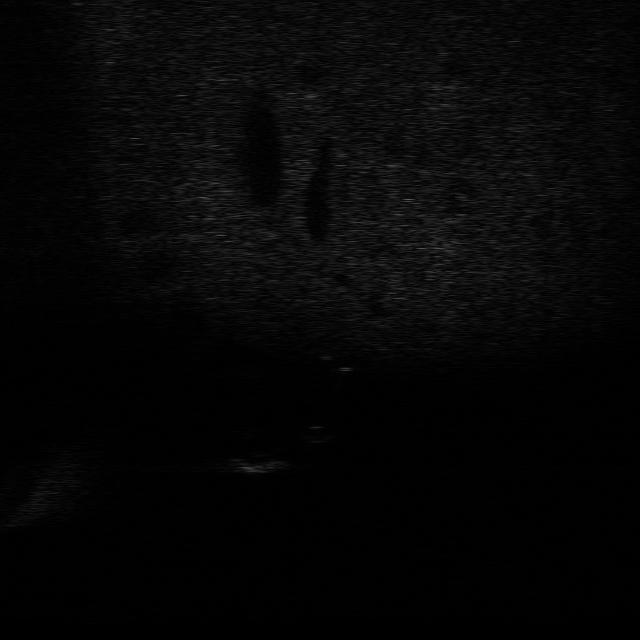ball: (298, 420, 336, 445)
human body: (311, 343, 351, 395)
square cage: (221, 446, 291, 477)
